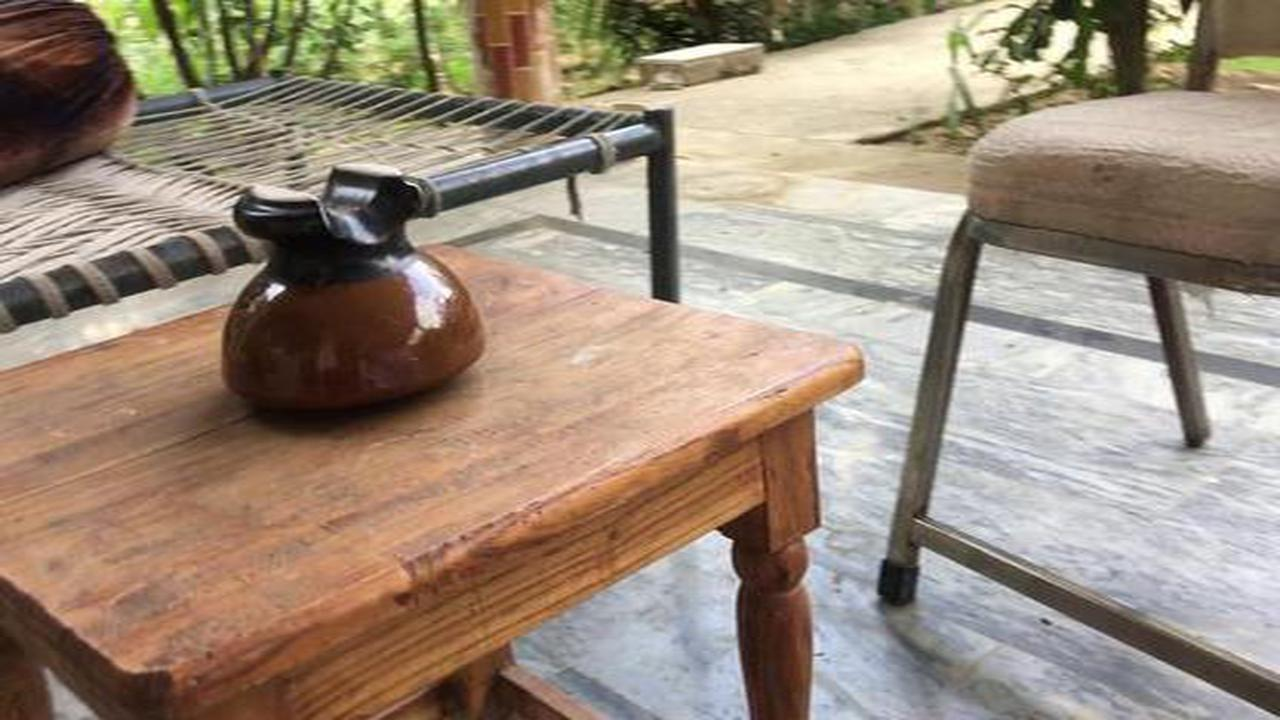insulator_pin: (204, 163, 499, 428)
